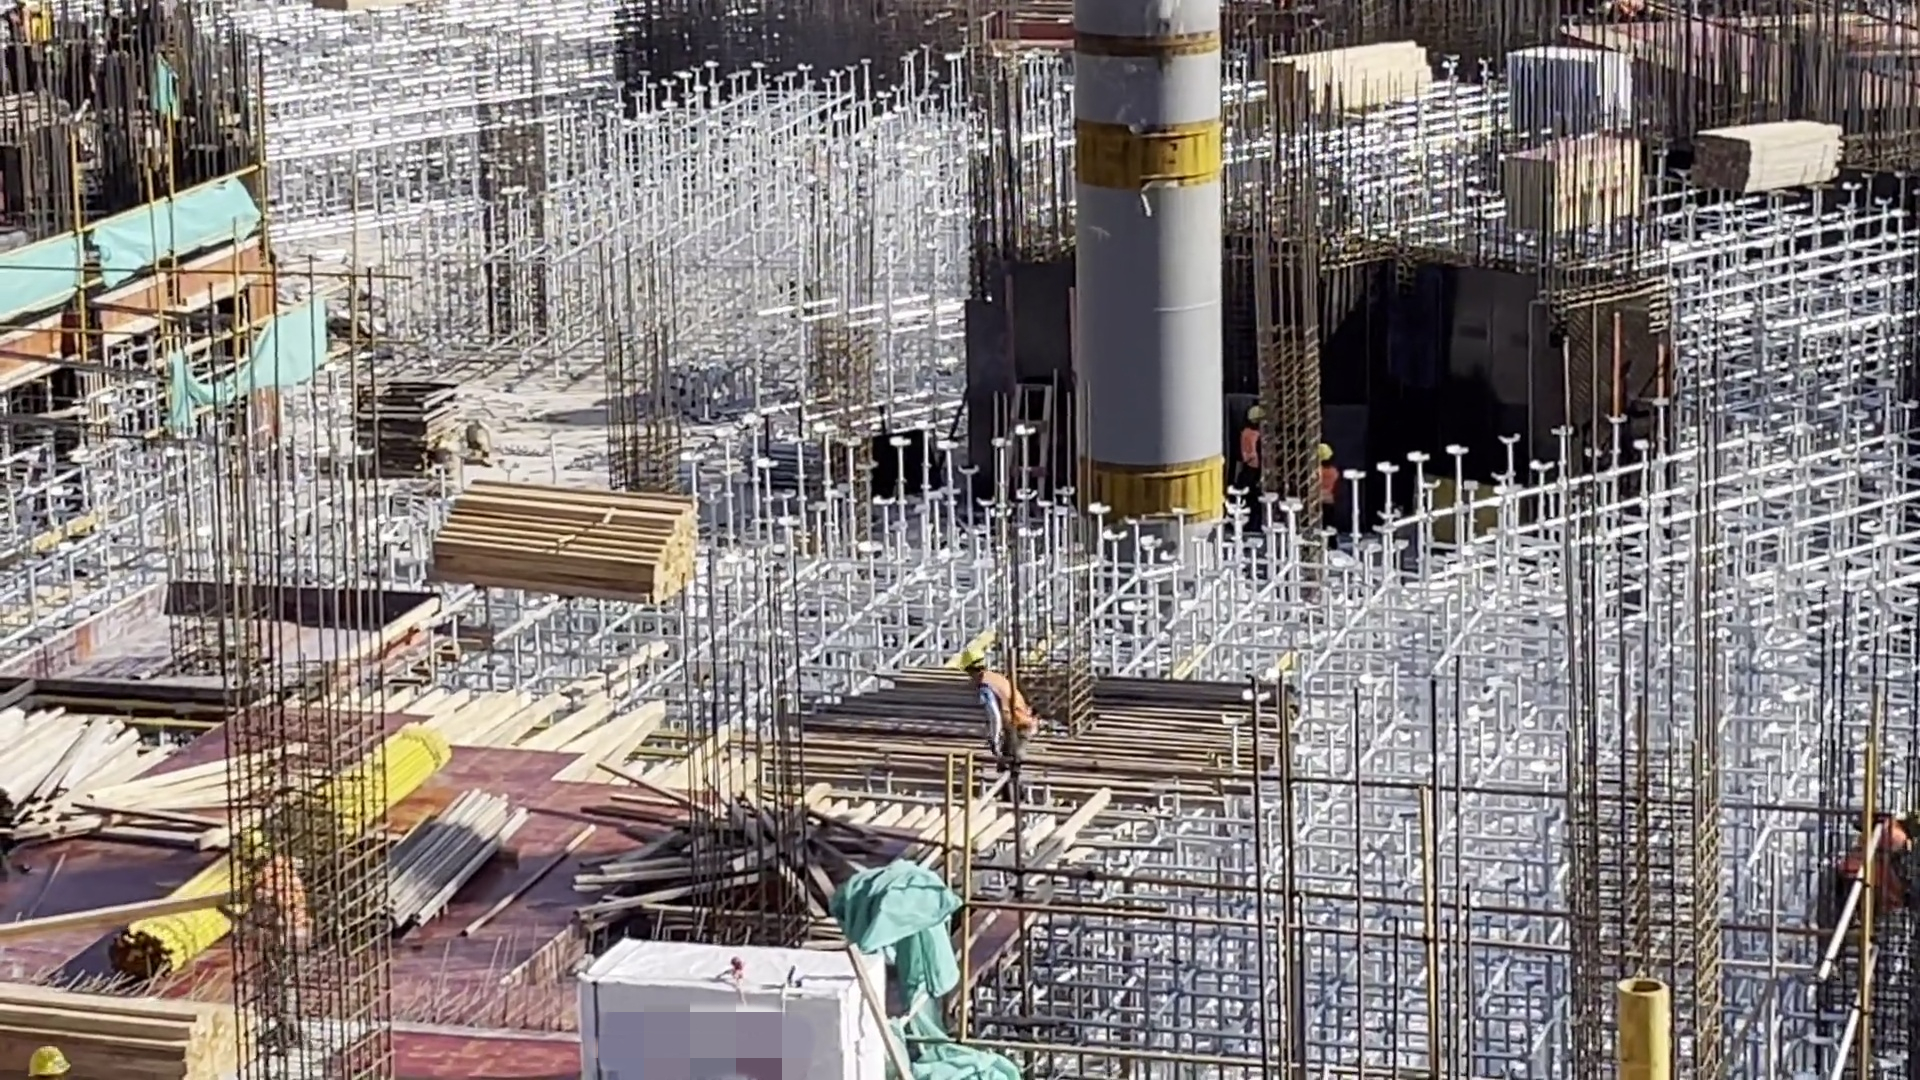helmet: (960, 650, 988, 672)
person: (961, 641, 1042, 774), (1233, 403, 1271, 510), (1305, 438, 1344, 537)
rebar: (782, 664, 1323, 803)
vest: (984, 676, 1035, 738), (1242, 426, 1266, 469), (1314, 466, 1336, 509)
wood: (436, 481, 702, 599), (9, 711, 235, 845), (5, 981, 235, 1079), (385, 797, 529, 927), (1493, 133, 1640, 237), (1275, 50, 1439, 118), (1705, 118, 1846, 192), (128, 862, 232, 964)
